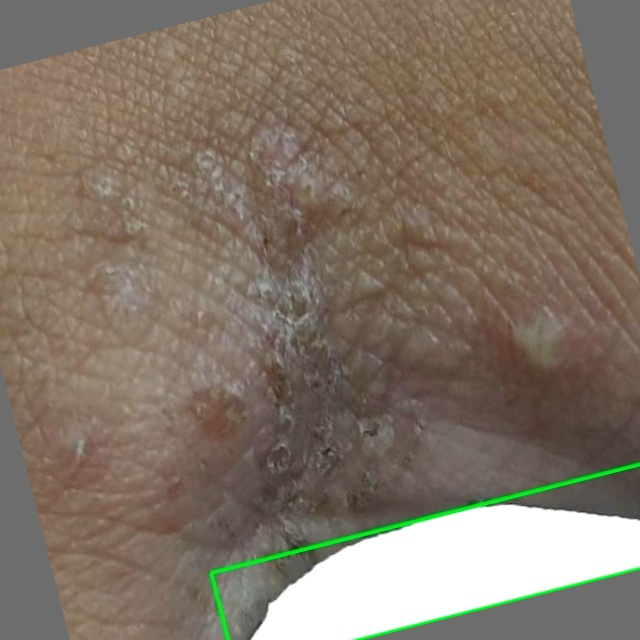Scabies: (211, 464, 639, 639)
